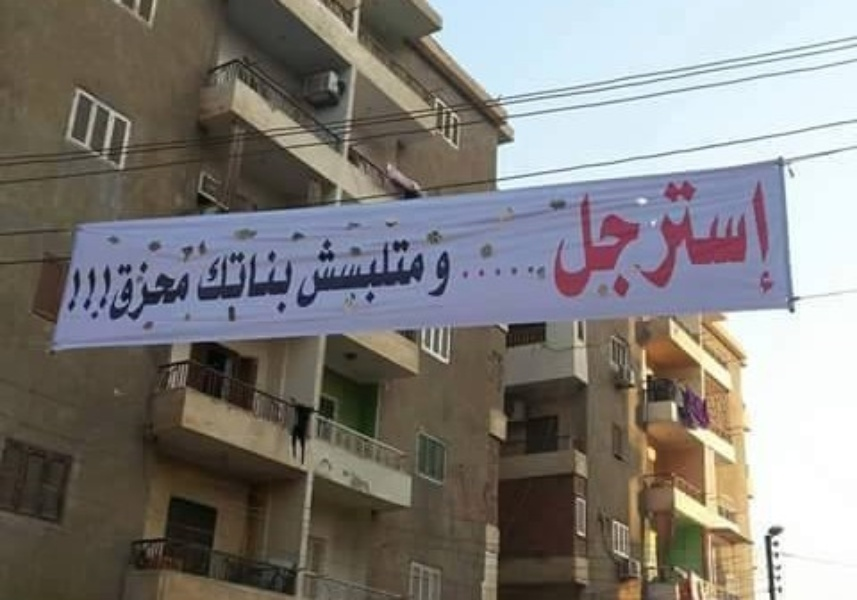text: (561, 174, 576, 304), (577, 174, 592, 304), (593, 174, 608, 304), (609, 174, 624, 304), (625, 174, 640, 304), (641, 174, 656, 304), (657, 174, 672, 304), (673, 174, 688, 304), (689, 174, 704, 304), (705, 174, 720, 304), (721, 174, 736, 304), (737, 174, 752, 304), (753, 174, 768, 304), (769, 174, 781, 304), (417, 234, 433, 311), (321, 234, 336, 311), (337, 234, 352, 311), (353, 234, 368, 311), (369, 234, 384, 311), (385, 234, 400, 311), (401, 234, 416, 311), (209, 245, 224, 315), (225, 245, 240, 315), (241, 245, 256, 315), (257, 245, 272, 315), (273, 245, 288, 315), (81, 259, 96, 326), (97, 259, 112, 326), (113, 259, 128, 326), (129, 259, 144, 326), (145, 259, 160, 326), (161, 259, 176, 326), (177, 259, 190, 326), (554, 174, 560, 304), (433, 249, 448, 301), (70, 259, 80, 326), (199, 245, 208, 315), (313, 234, 320, 311), (289, 245, 293, 315), (465, 265, 480, 283), (481, 265, 496, 283), (497, 265, 512, 283), (513, 265, 528, 283), (529, 265, 538, 283), (459, 265, 464, 283), (431, 249, 432, 301), (449, 249, 450, 301)
